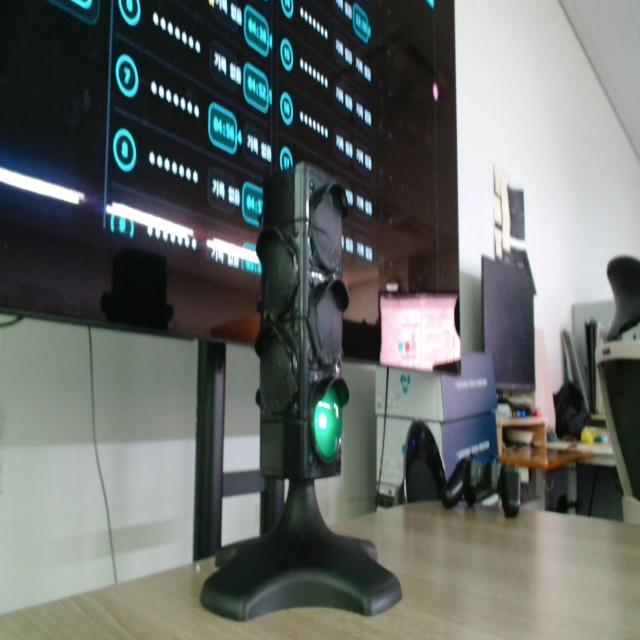green_light: (314, 388, 341, 462)
